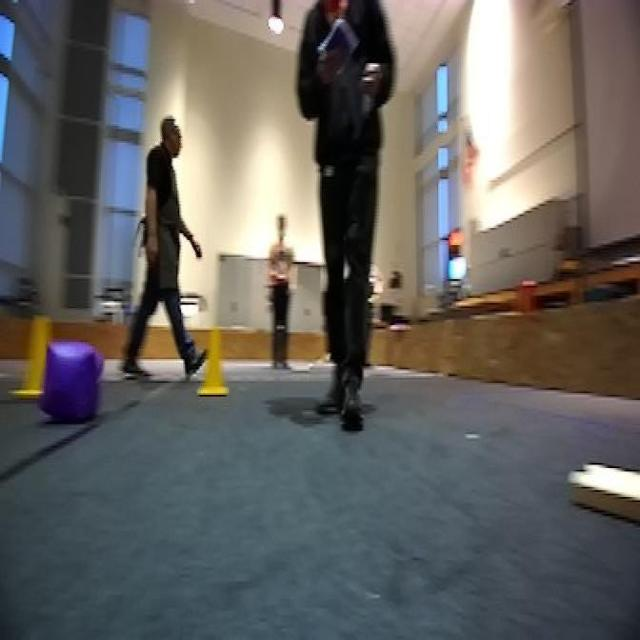frc_cone: (16, 310, 56, 403), (200, 324, 229, 398)
frc_cube: (45, 340, 95, 428)
